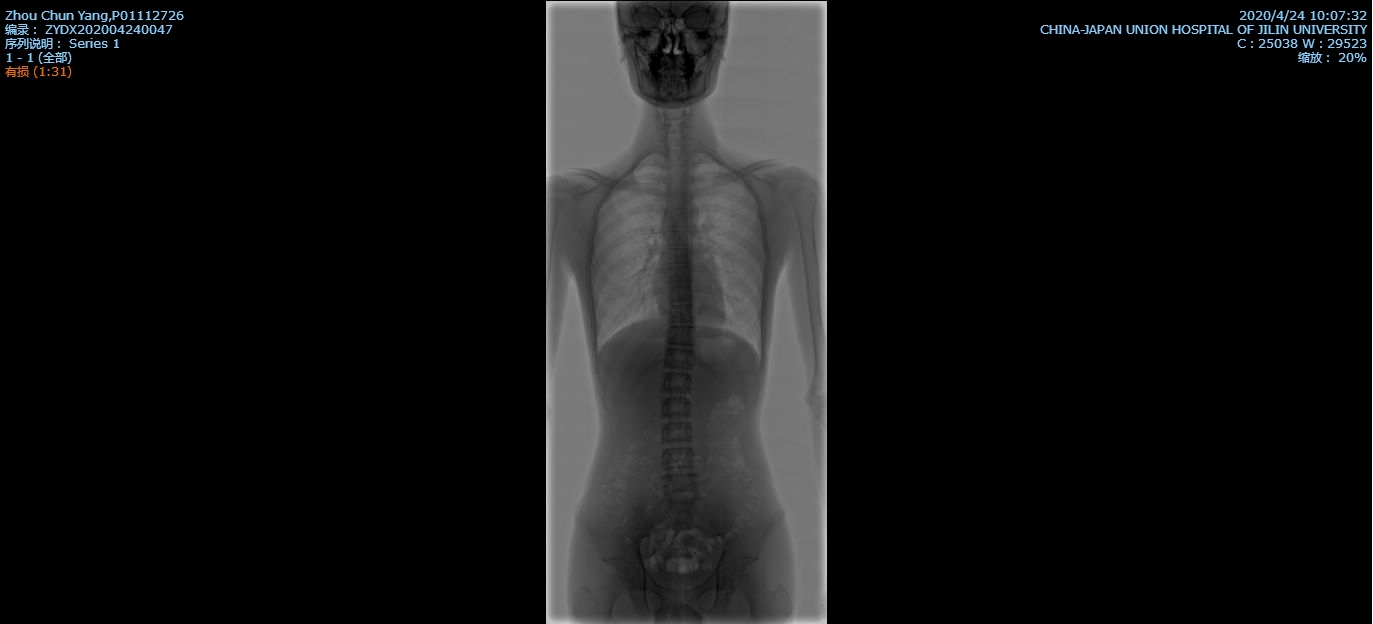Bone: (662, 450, 696, 467), (666, 349, 693, 369), (665, 475, 696, 492), (660, 424, 690, 440), (662, 400, 692, 416), (664, 375, 691, 392), (668, 325, 692, 341), (671, 306, 693, 322), (669, 285, 691, 301), (668, 248, 690, 264), (670, 229, 690, 244), (671, 269, 692, 282)
